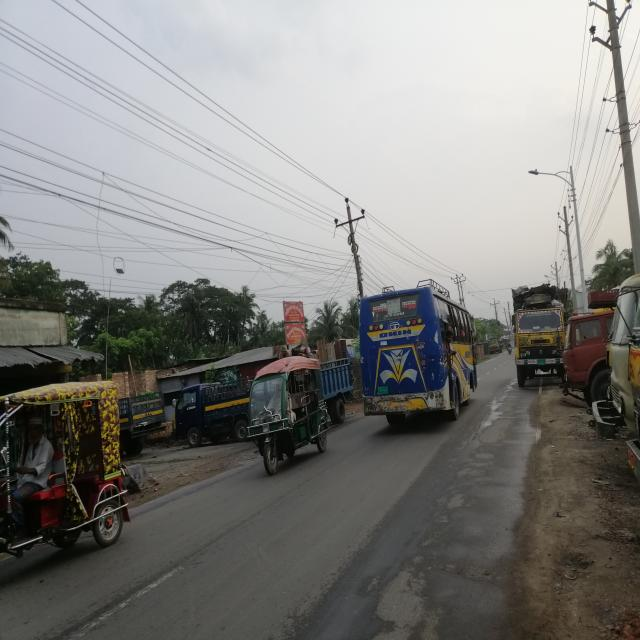Bus: (349, 274, 489, 449)
Easybike: (1, 367, 144, 592), (238, 344, 334, 494)
Pick-up-van: (162, 366, 270, 478)
Truck: (535, 296, 633, 424), (497, 277, 580, 404)
